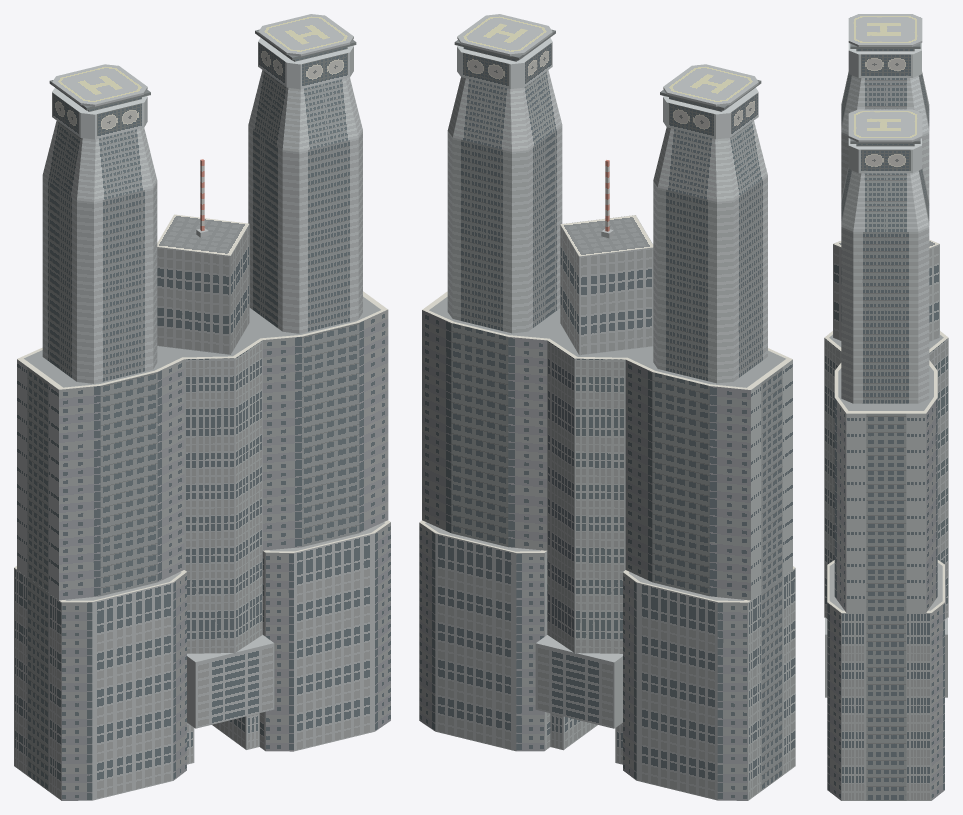
File: 0180_Sunfish_Building.glb
3 renders of one model, left to right at view 1: azimuth 30°, elevation 25°; view 2: azimuth 150°, elevation 25°; view 3: azimuth 270°, elevation 25°, orthographic. The views are drawn at different scales.
Parts seen in each view (by area): view 1: part_0; view 2: part_0; view 3: part_0.
Boxes of the visible parts, left/top/right/bottom form: part_0: left=14, top=14, right=390, bottom=800; part_0: left=419, top=14, right=795, bottom=800; part_0: left=824, top=14, right=948, bottom=800.
Size of the model in its own units: 126 by 251 by 43.6.
Materials: 1 (1 with a texture image).
